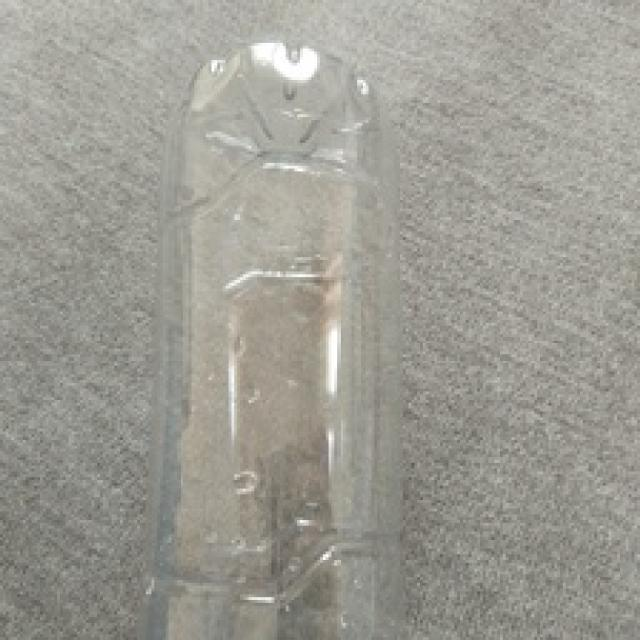Plastic: (148, 37, 397, 640)
